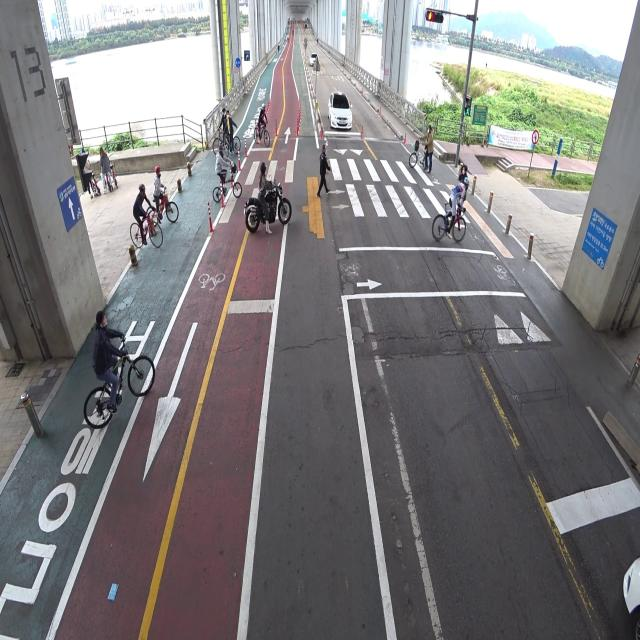Car: (323, 81, 357, 135), (309, 48, 322, 70)
Motorcycle: (242, 161, 292, 234)
